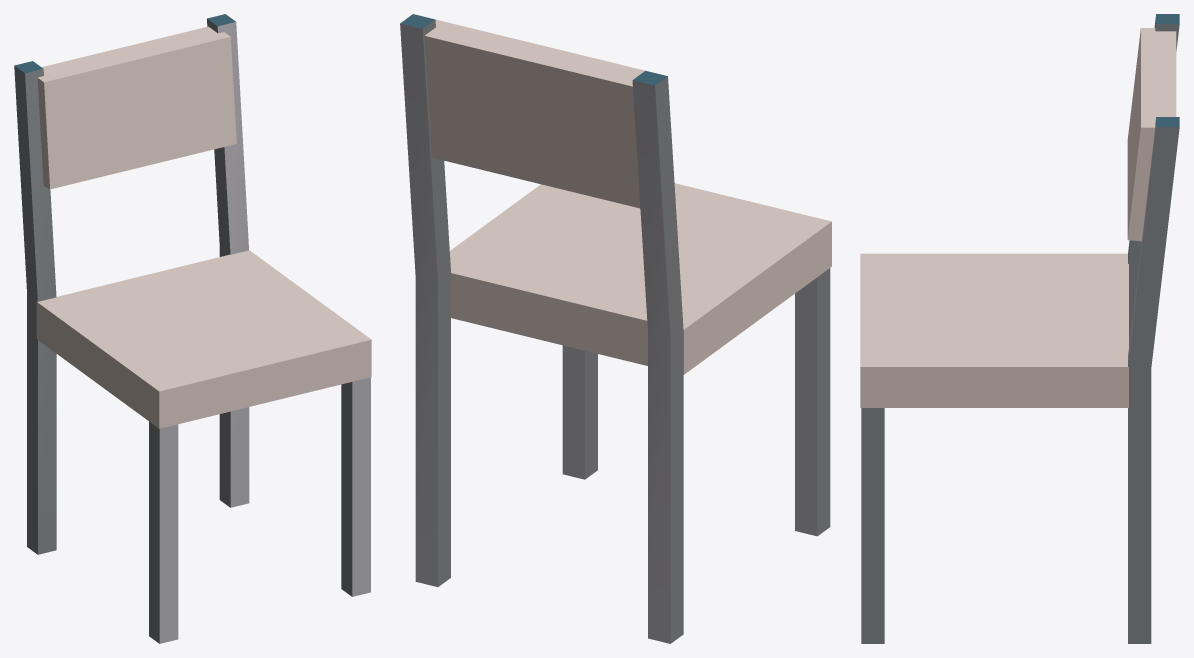
Rendered from chair.fbx.
The picture shows the model from 3 angles, left to right: view 1: azimuth 30°, elevation 25°; view 2: azimuth 150°, elevation 25°; view 3: azimuth 270°, elevation 25°; orthographic projection. The views are drawn at different scales.
Visible parts, largest first — view 1: SO_Chair04; view 2: SO_Chair04; view 3: SO_Chair04.
Boxes of the visible parts, x1,y1,x2,y2 form: SO_Chair04: (14,14,371,643); SO_Chair04: (400,14,831,643); SO_Chair04: (860,14,1179,643).
Size of the model in its own units: 0.9269 by 1.97 by 1.1.
